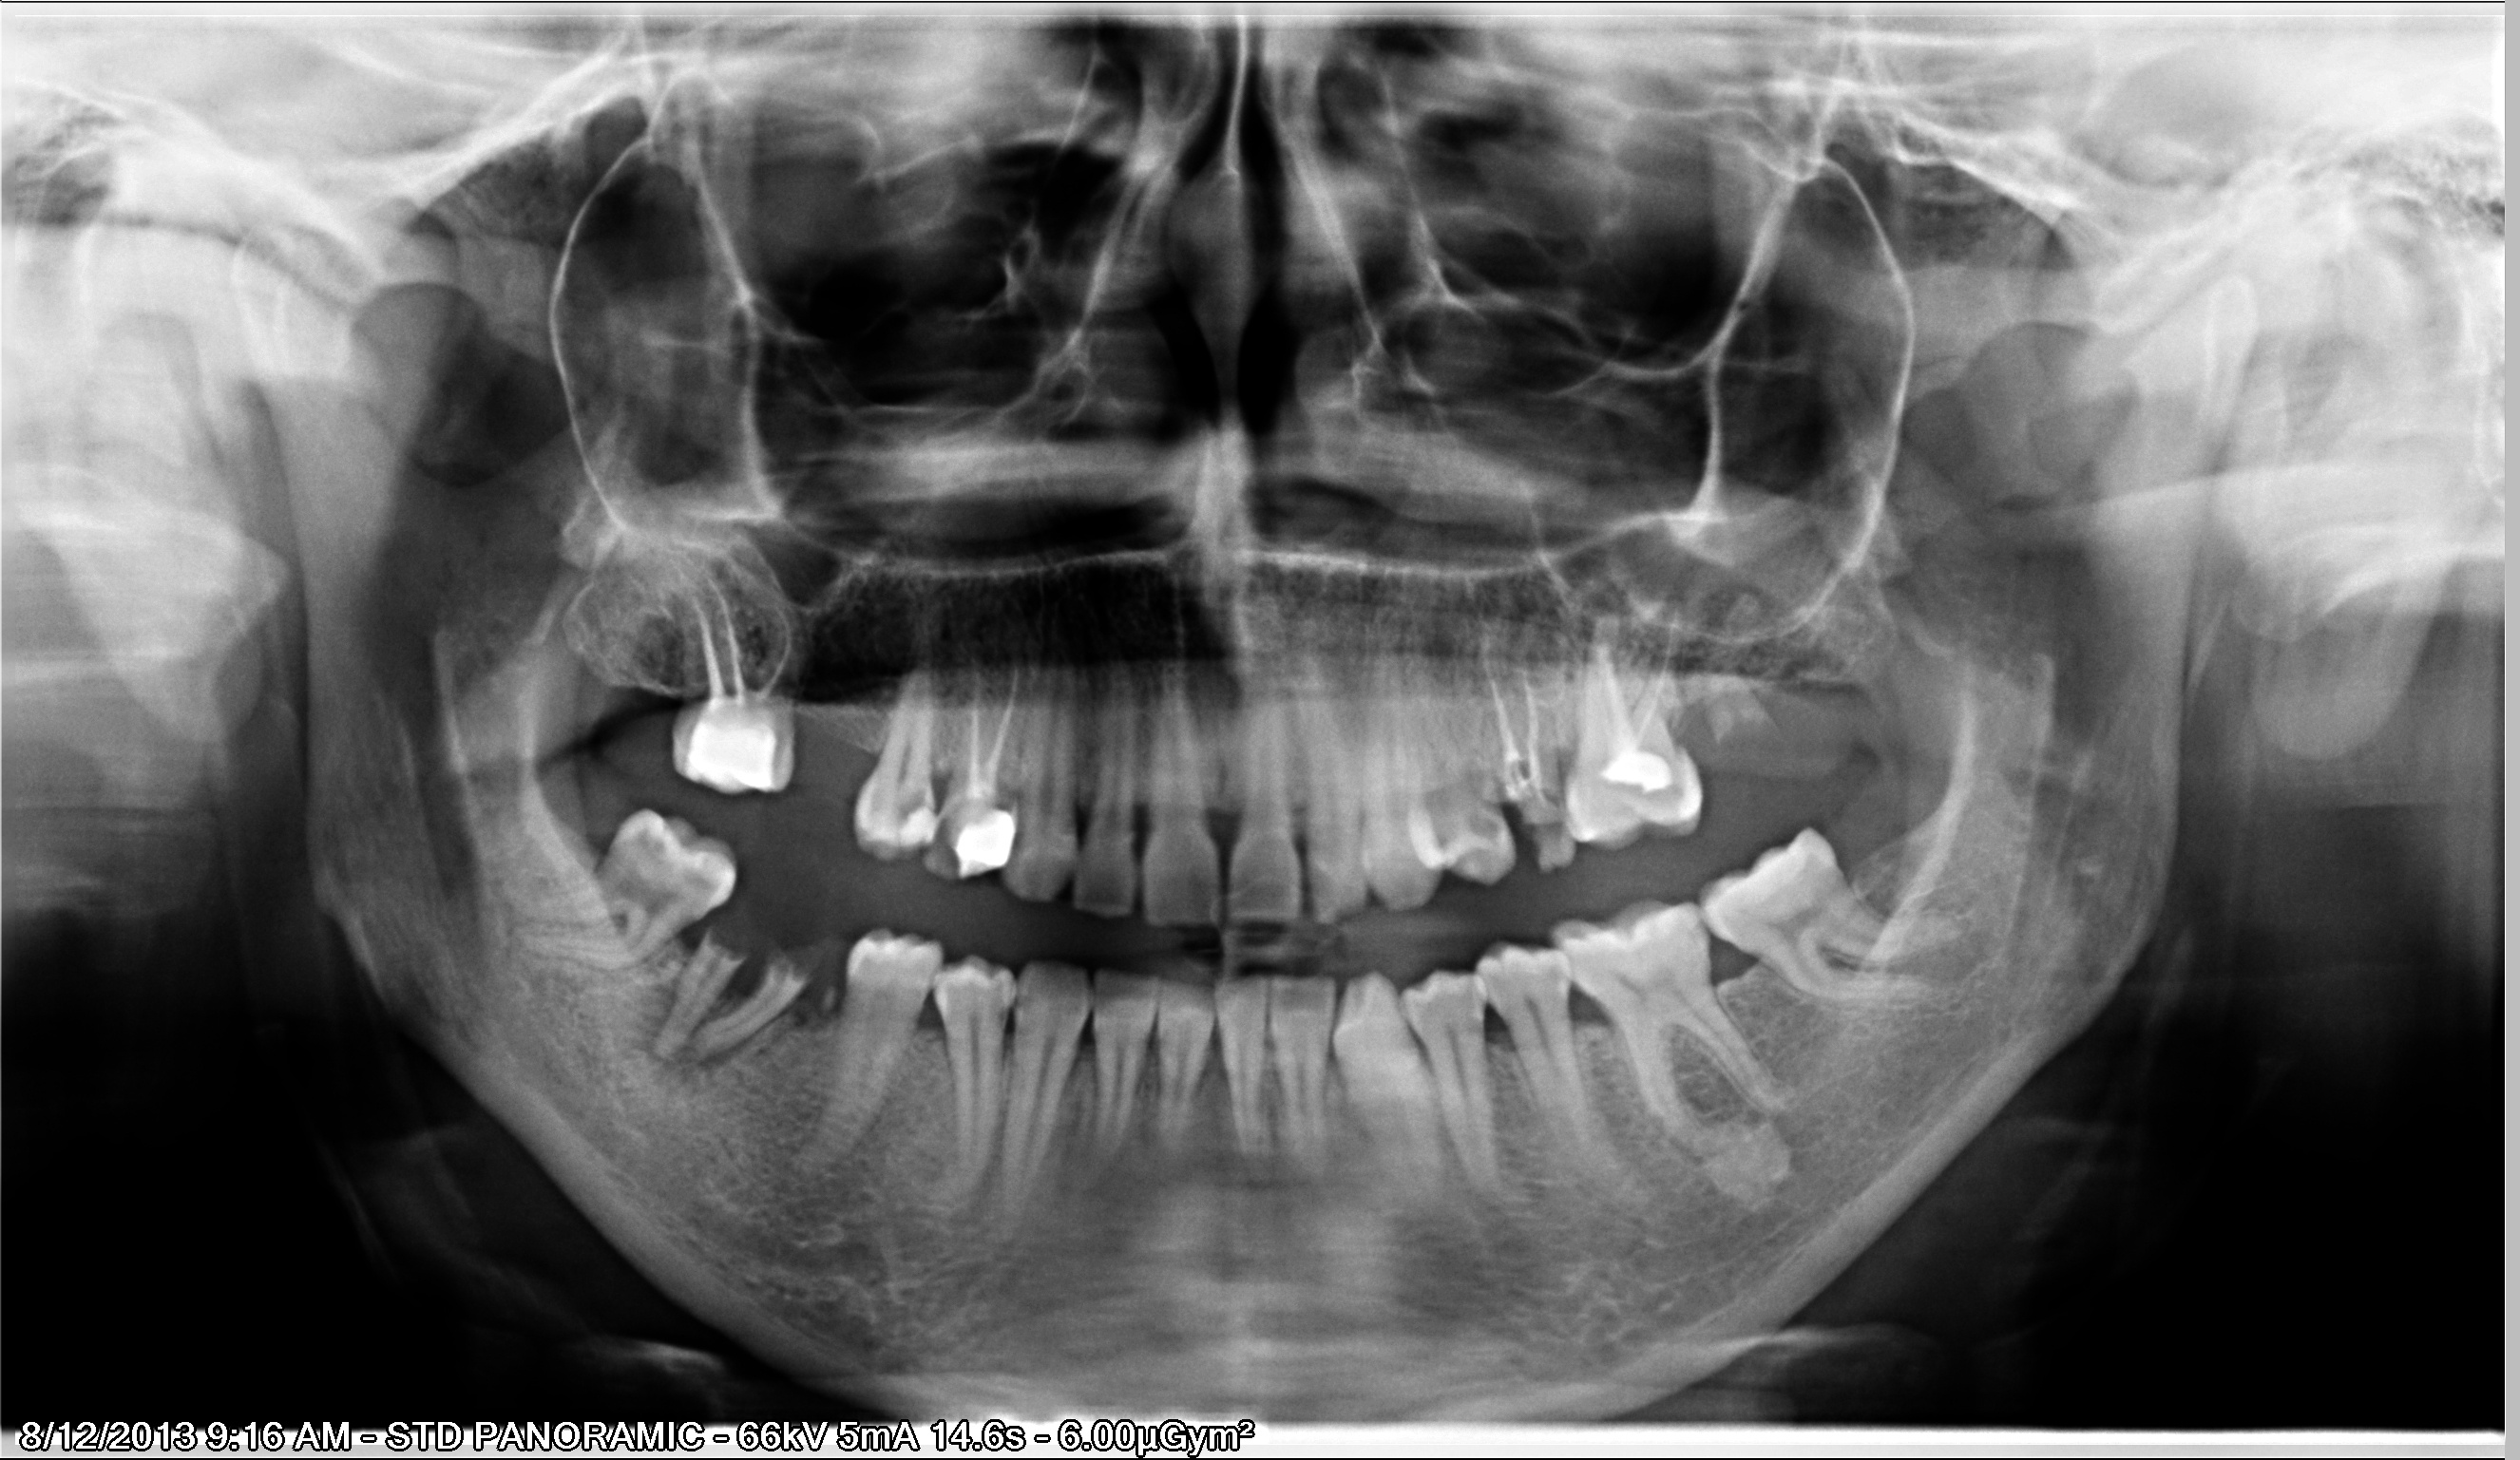CAR: (1496, 775, 1578, 871), (923, 787, 978, 886), (615, 808, 678, 878), (1455, 789, 1502, 853), (662, 864, 737, 899), (1015, 985, 1057, 1039), (984, 980, 1024, 1032), (890, 782, 937, 822)
END: (669, 541, 806, 706), (1582, 579, 1670, 742), (1465, 627, 1554, 786), (958, 654, 1018, 789)
PRR: (678, 711, 780, 801), (1583, 739, 1682, 806), (959, 803, 1025, 886), (897, 800, 937, 857)
ROT: (686, 933, 852, 1090), (622, 912, 759, 1067), (1691, 565, 1788, 758)
